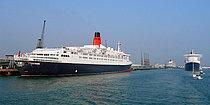Ship: (13, 31, 137, 81)
